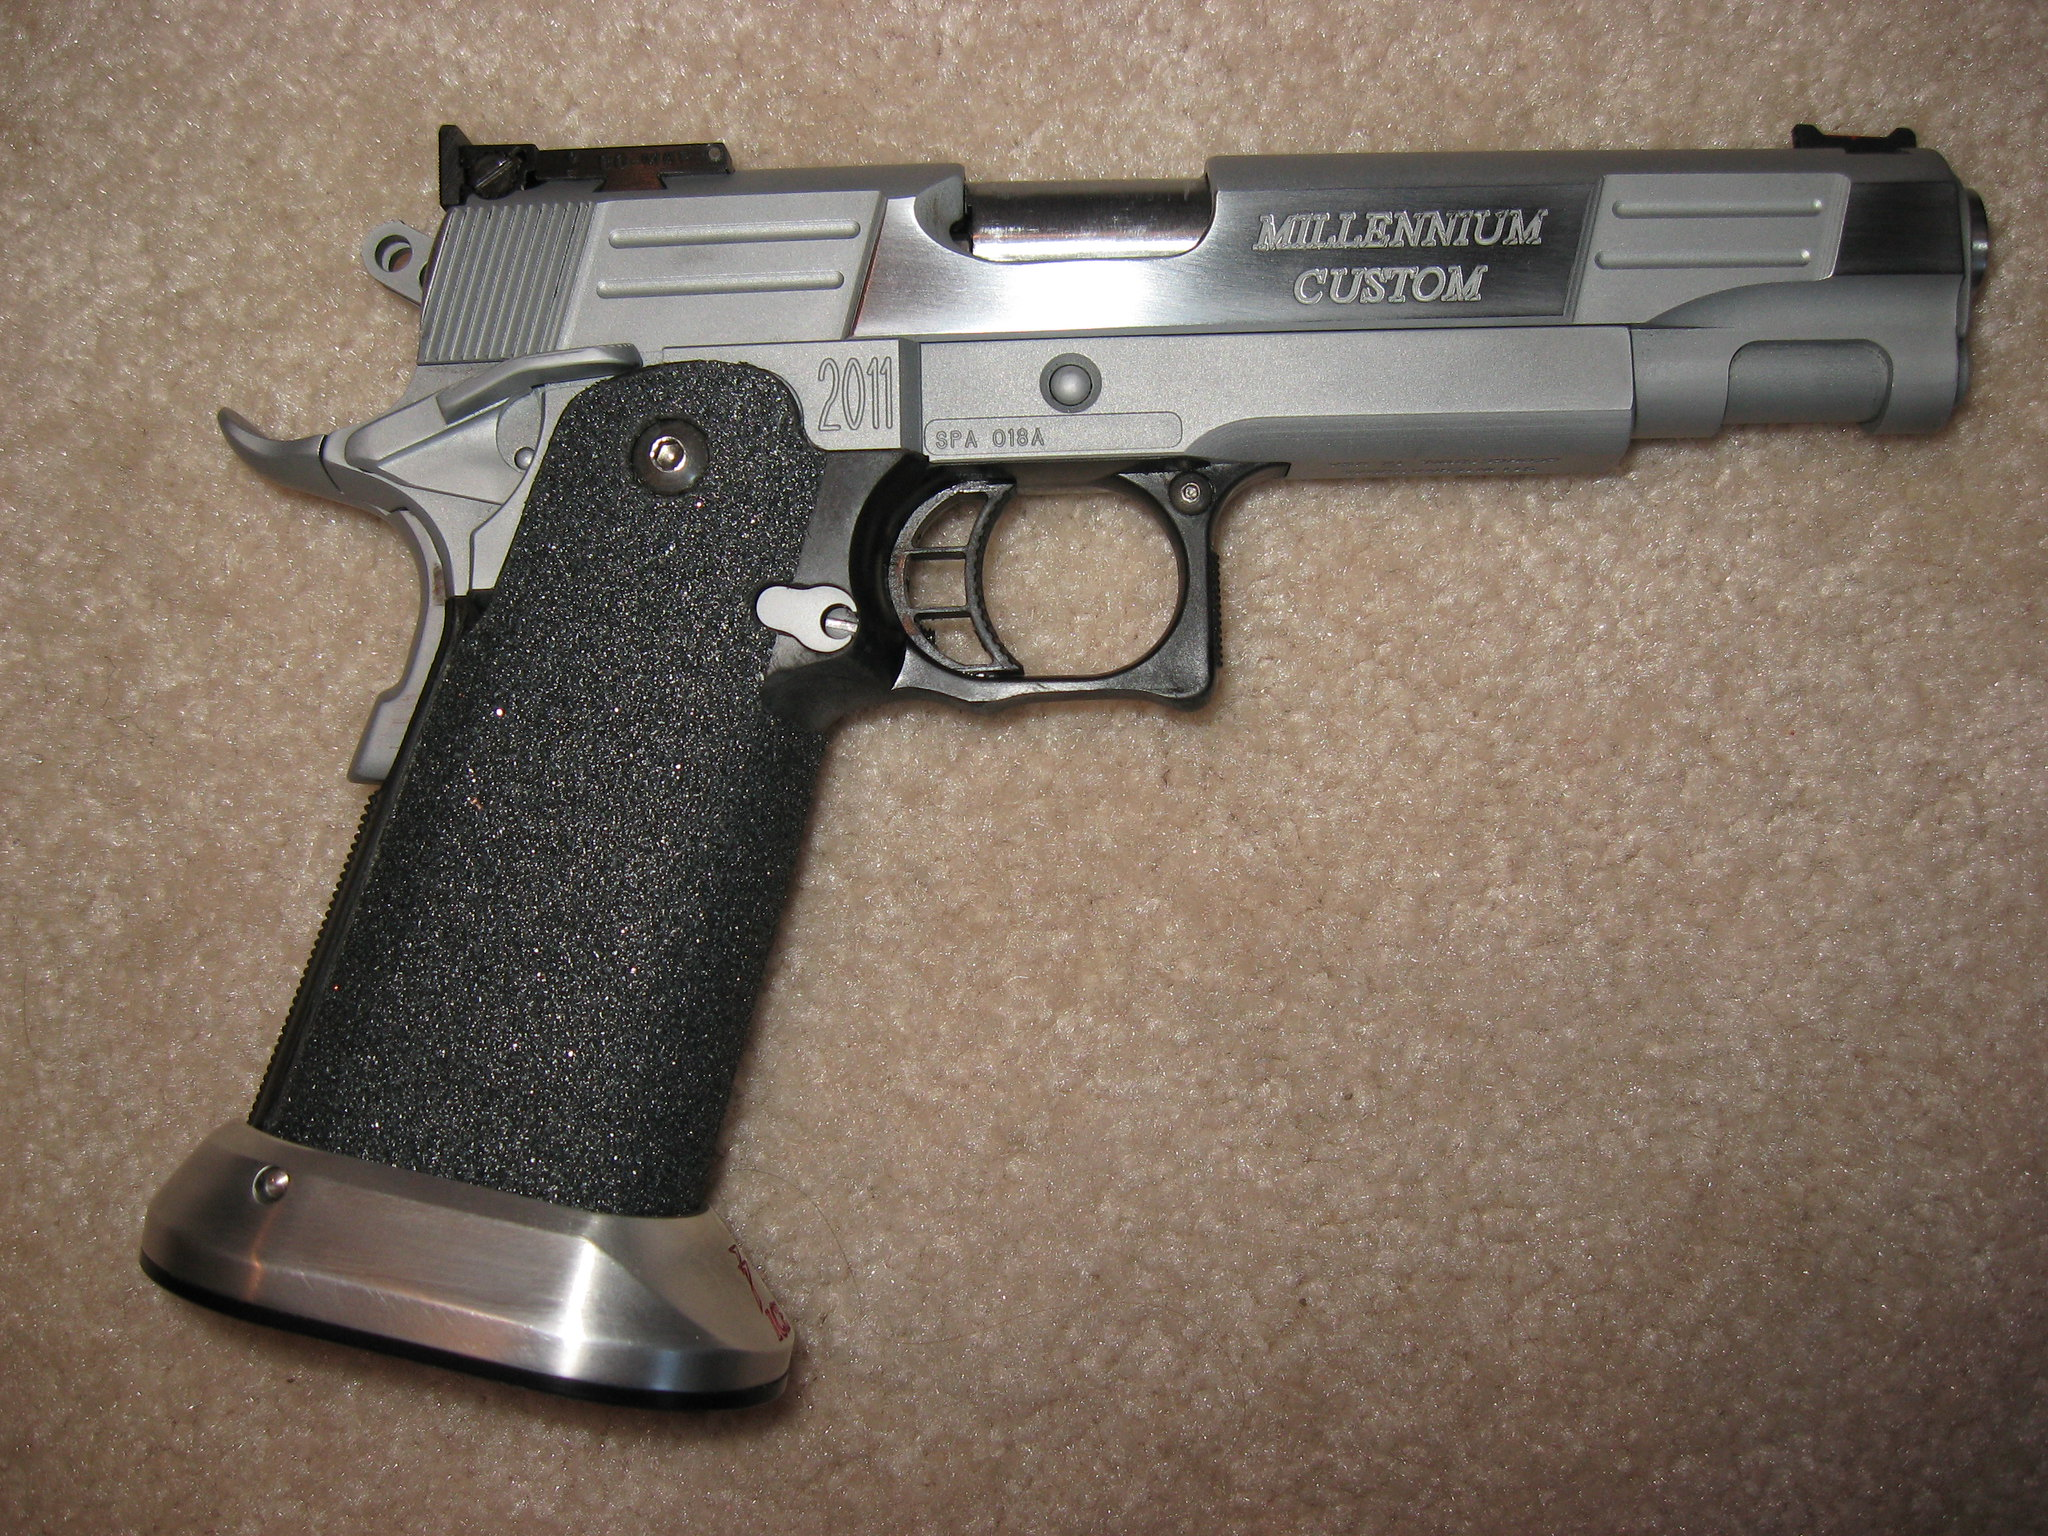gun: (127, 84, 2004, 1430)
